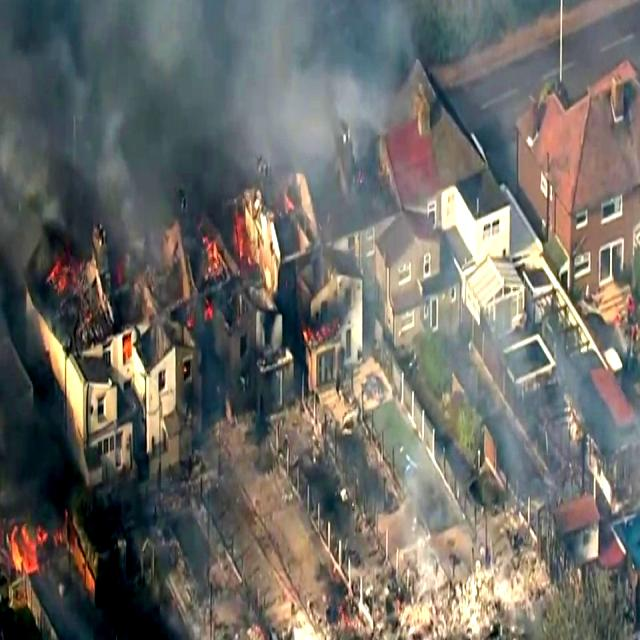fire: (0, 498, 73, 581)
smoke: (10, 0, 320, 133)
